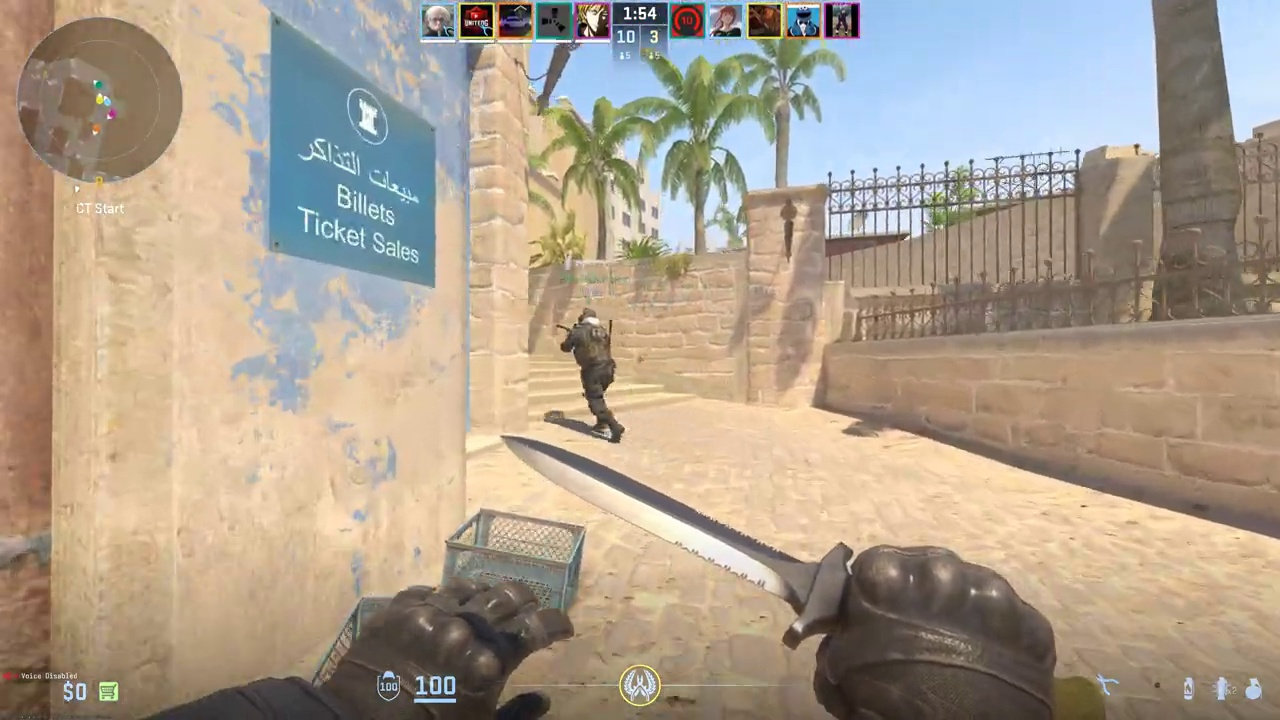CT: (572, 308, 624, 441)
